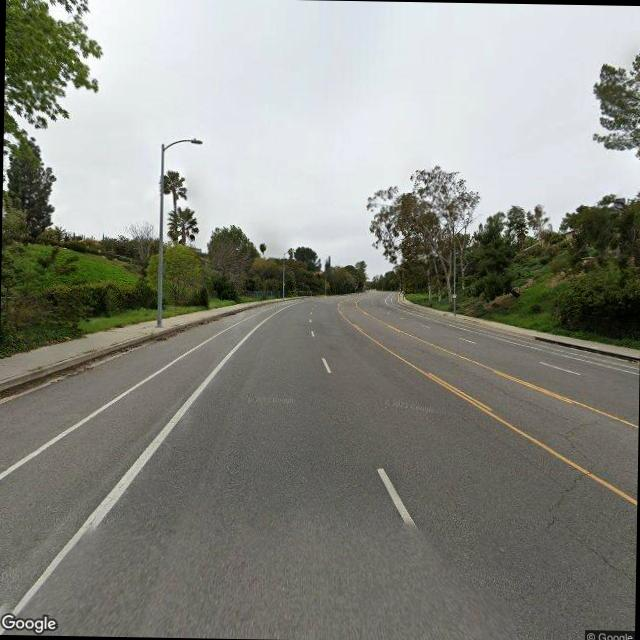pothole: (542, 460, 588, 531), (582, 536, 630, 578)
